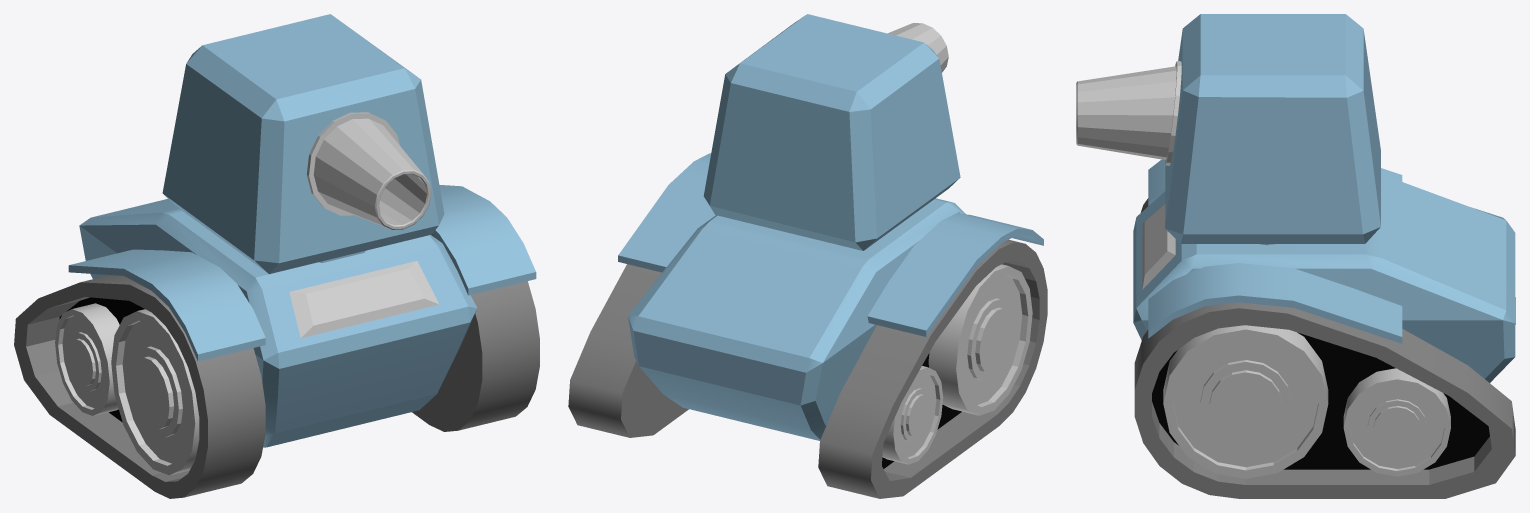
File: Blue Tank.fbx
3 renders of one model, left to right at view 1: azimuth 30°, elevation 25°; view 2: azimuth 150°, elevation 25°; view 3: azimuth 270°, elevation 25°, orthographic. The views are drawn at different scales.
Visible parts, largest first — view 1: Head, Body, Right_Wheel (×2), Mudguard (×2), Wheelcap_Big, Canon, Wheelcap_Medium; view 2: Head, Body, Right_Wheel (×2), Mudguard (×2), Wheelcap_Big, Wheelcap_Medium, Canon; view 3: Head, Right_Wheel, Body, Wheelcap_Big, Mudguard (×2), Wheelcap_Medium, Canon.
Part boxes in pixels (x1=…): Head: x1=162, y1=14, x2=444, y2=274; Body: x1=79, y1=199, x2=477, y2=447; Right_Wheel (×2): x1=14, y1=234, x2=539, y2=498; Mudguard (×2): x1=68, y1=185, x2=536, y2=361; Wheelcap_Big: x1=111, y1=309, x2=199, y2=475; Canon: x1=306, y1=112, x2=431, y2=229; Wheelcap_Medium: x1=55, y1=303, x2=119, y2=415; Head: x1=703, y1=14, x2=960, y2=250; Body: x1=628, y1=198, x2=966, y2=440; Right_Wheel (×2): x1=568, y1=239, x2=1047, y2=498; Mudguard (×2): x1=618, y1=153, x2=1043, y2=336; Wheelcap_Big: x1=928, y1=264, x2=1032, y2=415; Wheelcap_Medium: x1=882, y1=366, x2=943, y2=464; Canon: x1=887, y1=23, x2=948, y2=72; Head: x1=1165, y1=14, x2=1380, y2=243; Right_Wheel: x1=1134, y1=302, x2=1515, y2=498; Body: x1=1133, y1=174, x2=1515, y2=382; Wheelcap_Big: x1=1163, y1=325, x2=1328, y2=478; Mudguard (×2): x1=1148, y1=159, x2=1402, y2=343; Wheelcap_Medium: x1=1343, y1=368, x2=1450, y2=476; Canon: x1=1076, y1=61, x2=1181, y2=165.
Bounding box in the file's own units: 99.64 × 108 × 114.
